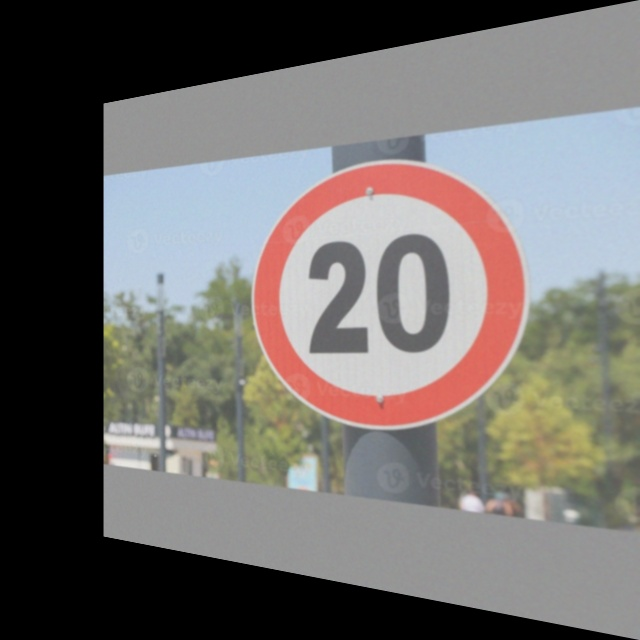Speed_Limit_20: (255, 140, 522, 428)
